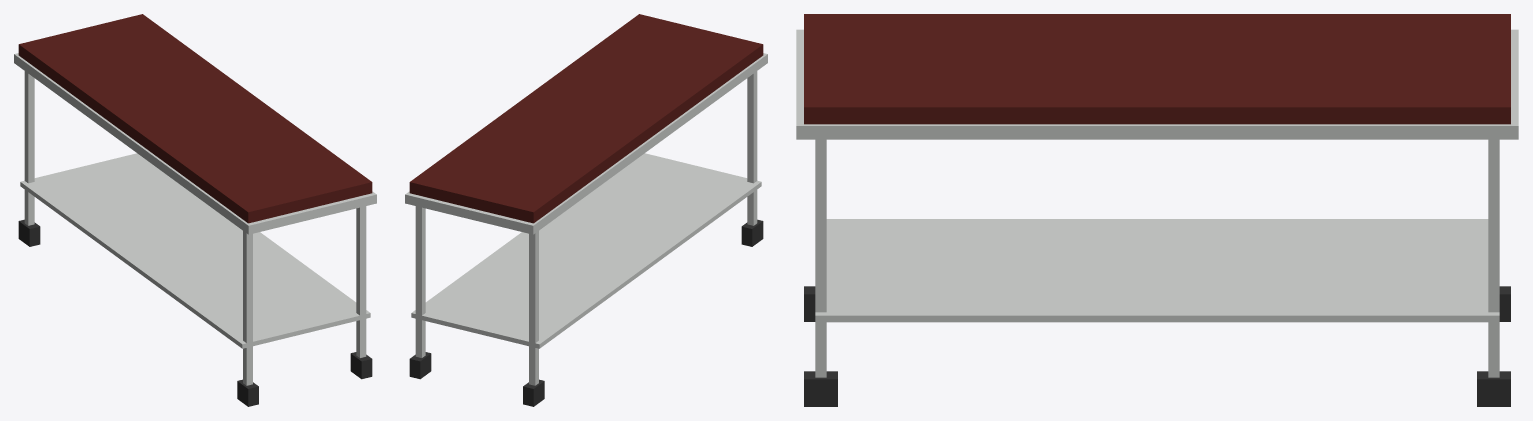
File: prop_gurney.glb
The picture shows the model from 3 angles, left to right: view 1: azimuth 30°, elevation 25°; view 2: azimuth 150°, elevation 25°; view 3: azimuth 270°, elevation 25°; orthographic projection. The views are drawn at different scales.
Parts seen in each view (by area): view 1: prop_gurney; view 2: prop_gurney; view 3: prop_gurney.
Part boxes in pixels (x1,y1,x2,y2): prop_gurney: (14,14,376,406); prop_gurney: (405,14,767,406); prop_gurney: (796,14,1518,406).
Size of what is drawn, in the model's own units: 0.6 by 0.87 by 1.9.
